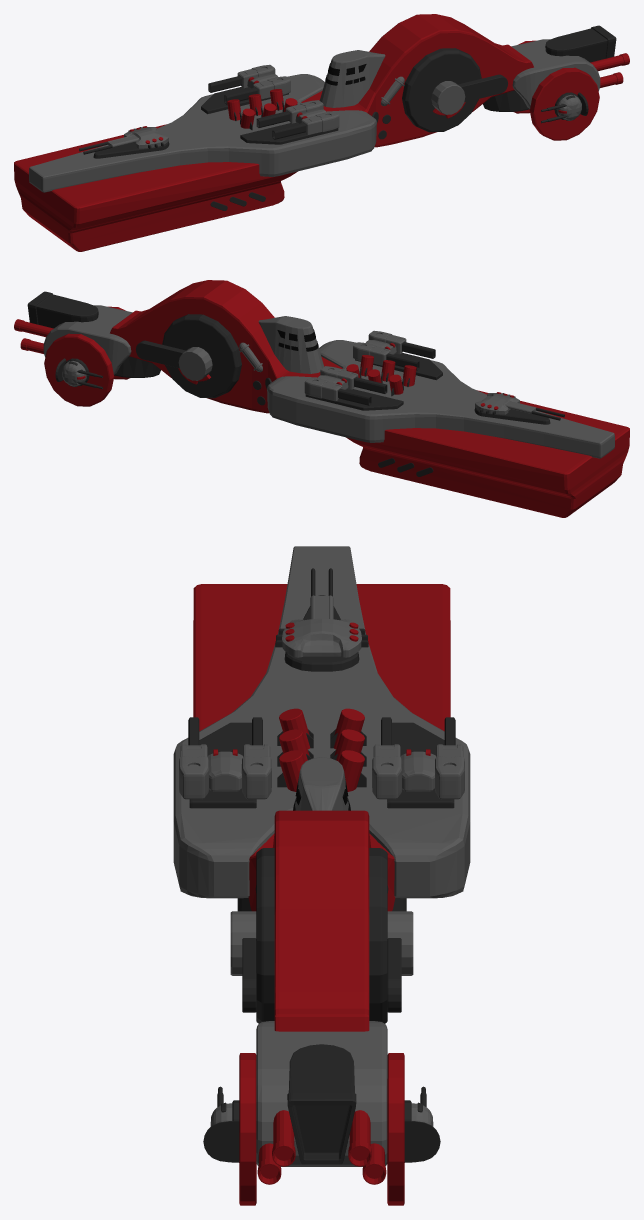
File: fga_croiseur2.glb
3 views of the same model, one above another, from view 1: azimuth 30°, elevation 25°; view 2: azimuth 150°, elevation 25°; view 3: azimuth 270°, elevation 25° (orthographic). The views are drawn at different scales.
Visible parts, largest first — view 1: Light_Cruiser_2; view 2: Light_Cruiser_2; view 3: Light_Cruiser_2.
Boxes of the visible parts, <box> form: Light_Cruiser_2: <box>14,14,629,251</box>; Light_Cruiser_2: <box>14,280,629,517</box>; Light_Cruiser_2: <box>173,546,470,1205</box>.
Bounding box in the file's own units: 9948 × 2152 × 2196.
Materials: 1 (1 with a texture image).
